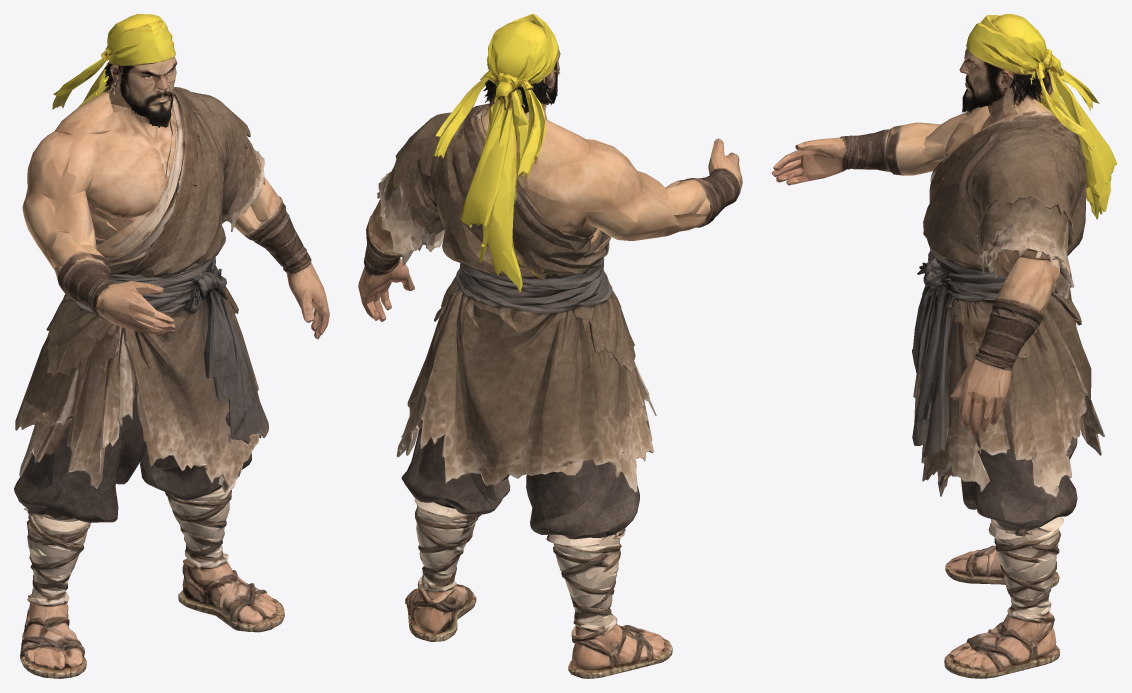
The model's file is glb.glb.
3 renders of one model, left to right at view 1: azimuth 30°, elevation 25°; view 2: azimuth 150°, elevation 25°; view 3: azimuth 270°, elevation 25°, orthographic. The views are drawn at different scales.
Size of the model in its own units: 0.9876 by 1.9 by 0.9826.
Materials: 1 (1 with a texture image).
